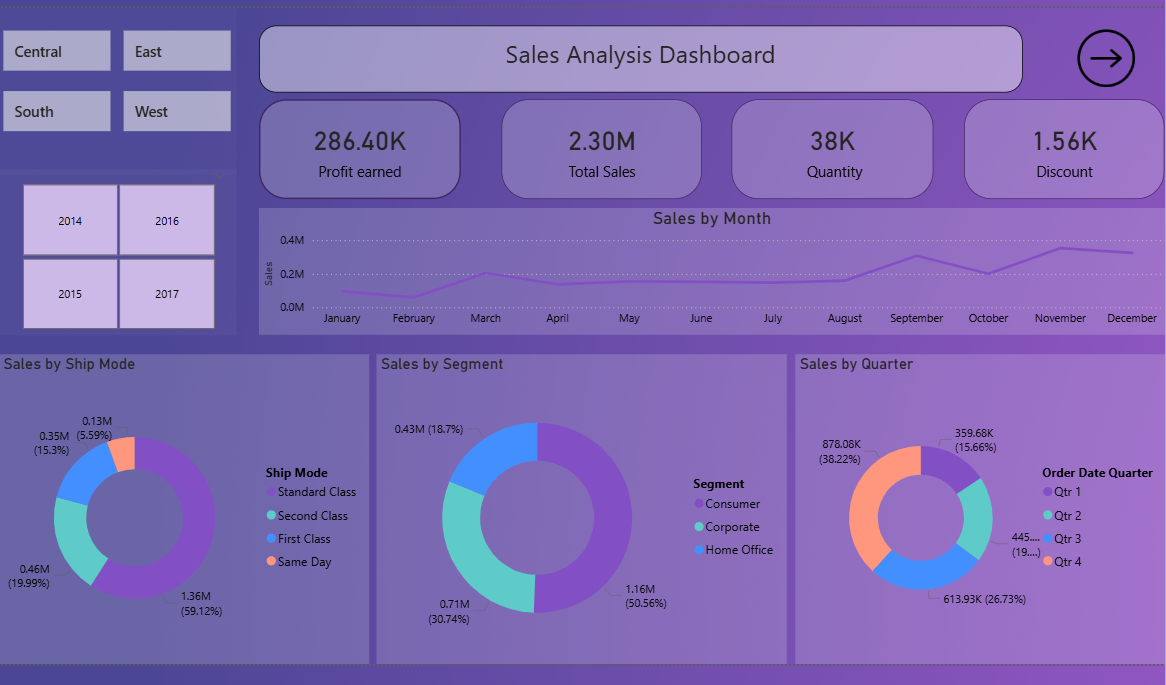

What the dashboard file says about the page in this screenshot:
{"tool":"powerbi","page":{"name":"Page 1","canvas":[1280,720],"ordinal":0},"visuals":[{"type":"cardVisual","fields":{"Rows":["sample_-_superstore xls - Orders.Region"]},"box":[0,0,260.7,182.5],"z":0},{"type":"textbox","box":[284.9,18.7,838.4,73.4],"z":1000},{"type":"slicer","fields":{"Values":["sample_-_superstore xls - Orders.Order Date.Variation.Date Hierarchy.Year"]},"box":[0,177,260.7,182.5],"z":2000},{"type":"card","fields":{"Values":["Sum(sample_-_superstore xls - Orders.Profit)"]},"box":[284.9,100.8,221.4,109.5],"z":3000},{"type":"card","fields":{"Values":["Sum(sample_-_superstore xls - Orders.Sales)"]},"box":[551.1,100.8,220.2,109.5],"z":3001},{"type":"card","fields":{"Values":["Sum(sample_-_superstore xls - Orders.Quantity)"]},"box":[803.6,100.8,221.4,109.5],"z":3002},{"type":"card","fields":{"Values":["Sum(sample_-_superstore xls - Orders.Discount)"]},"box":[1059.9,100.8,220.2,109.5],"z":3003},{"type":"donutChart","fields":{"Y":["Sum(sample_-_superstore xls - Orders.Sales)"],"Category":["sample_-_superstore xls - Orders.Ship Mode"]},"box":[0,380.1,406.2,340.3],"z":3004},{"type":"donutChart","fields":{"Y":["Sum(sample_-_superstore xls - Orders.Sales)"],"Category":["sample_-_superstore xls - Orders.Segment"]},"box":[414.4,380.1,450.1,340.3],"z":3005},{"type":"donutChart","fields":{"Y":["Sum(sample_-_superstore xls - Orders.Sales)"],"Category":["sample_-_superstore xls - Orders.Order Date.Variation.Date Hierarchy.Quarter"]},"box":[874.1,380.1,406.2,340.3],"z":3006},{"type":"lineChart","fields":{"Category":["sample_-_superstore xls - Orders.Order Date.Variation.Date Hierarchy.Month"],"Y":["Sum(sample_-_superstore xls - Orders.Sales)"]},"box":[284.9,220.2,995.2,139.3],"z":3007},{"type":"image","box":[1149.4,18.7,130.6,72.1],"z":3008}]}

Visuals, with their boxes on the page's 1280x720 design canvas (x1, y1, x2, y2). These are canvas units, not pixel positions in the 1166x685 screenshot, which may show the page scaled, cropped or inside an application window:
cardVisual - sample_-_superstore xls - Orders.Region: <region>0, 0, 261, 182</region>
textbox: <region>285, 19, 1123, 92</region>
slicer - sample_-_superstore xls - Orders.Order Date.Variation.Date Hierarchy.Year: <region>0, 177, 261, 360</region>
card - Sum(sample_-_superstore xls - Orders.Profit): <region>285, 101, 506, 210</region>
card - Sum(sample_-_superstore xls - Orders.Sales): <region>551, 101, 771, 210</region>
card - Sum(sample_-_superstore xls - Orders.Quantity): <region>804, 101, 1025, 210</region>
card - Sum(sample_-_superstore xls - Orders.Discount): <region>1060, 101, 1280, 210</region>
donutChart - Sum(sample_-_superstore xls - Orders.Sales) x sample_-_superstore xls - Orders.Ship Mode: <region>0, 380, 406, 720</region>
donutChart - Sum(sample_-_superstore xls - Orders.Sales) x sample_-_superstore xls - Orders.Segment: <region>414, 380, 864, 720</region>
donutChart - Sum(sample_-_superstore xls - Orders.Sales) x sample_-_superstore xls - Orders.Order Date.Variation.Date Hierarchy.Quarter: <region>874, 380, 1280, 720</region>
lineChart - sample_-_superstore xls - Orders.Order Date.Variation.Date Hierarchy.Month x Sum(sample_-_superstore xls - Orders.Sales): <region>285, 220, 1280, 360</region>
image: <region>1149, 19, 1280, 91</region>
